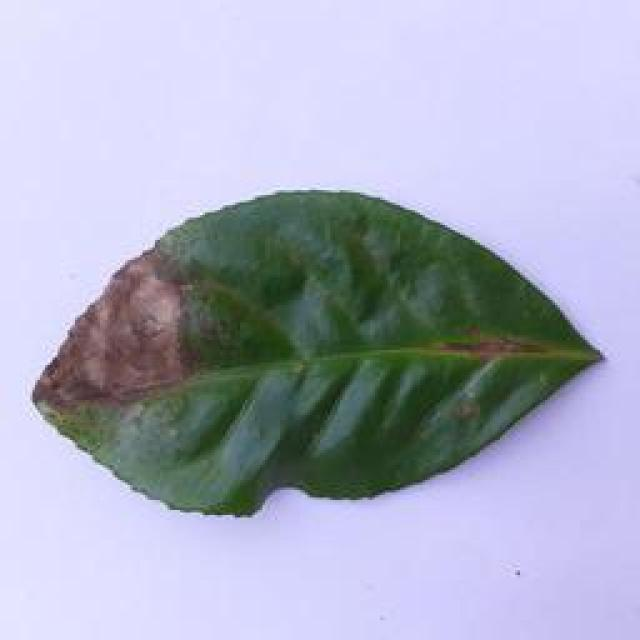Gray Blight: (28, 184, 610, 519)
